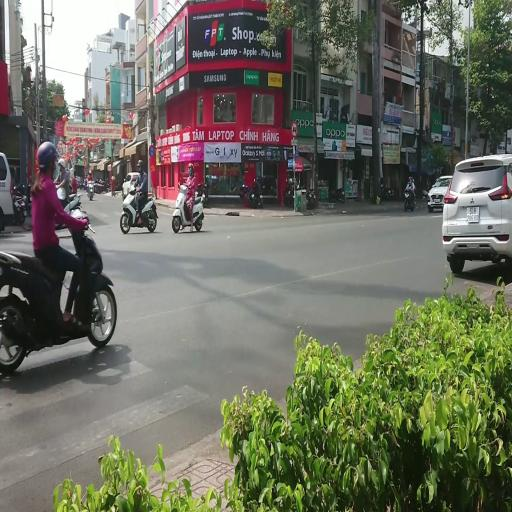bikes: (0, 207, 117, 374), (120, 186, 158, 234), (172, 181, 206, 232), (54, 184, 83, 230), (284, 178, 315, 208), (240, 177, 263, 208), (11, 184, 28, 225), (284, 177, 299, 206), (64, 191, 82, 211), (404, 186, 416, 212), (195, 182, 207, 208), (330, 187, 345, 203), (94, 178, 108, 194), (306, 187, 316, 209), (86, 180, 94, 200), (422, 188, 429, 200), (83, 176, 88, 190)
helmet: (36, 141, 57, 170), (196, 183, 204, 196), (58, 158, 66, 168), (136, 159, 142, 172), (188, 163, 194, 175), (409, 176, 412, 182), (254, 177, 257, 183), (111, 176, 115, 180), (88, 170, 91, 175), (74, 171, 76, 176)
